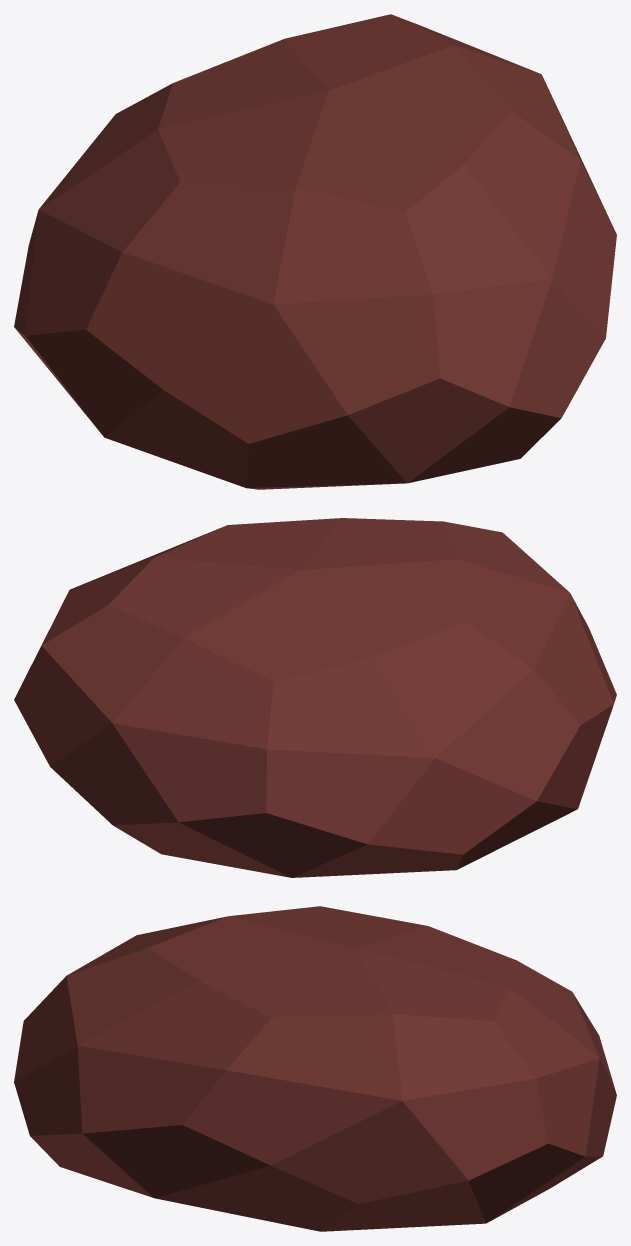
Rendered from Rock_2_Red.fbx.
The picture shows the model from 3 angles, top to bottom: view 1: azimuth 30°, elevation 25°; view 2: azimuth 150°, elevation 25°; view 3: azimuth 270°, elevation 25°; orthographic projection. The views are drawn at different scales.
Parts seen in each view (by area): view 1: Rock_2_Red; view 2: Rock_2_Red; view 3: Rock_2_Red.
Part boxes in pixels (bbox=[...]): Rock_2_Red: bbox=[14, 14, 616, 489]; Rock_2_Red: bbox=[14, 518, 616, 877]; Rock_2_Red: bbox=[14, 906, 616, 1231].
Bounding box in the file's own units: 157 × 78.08 × 178.
